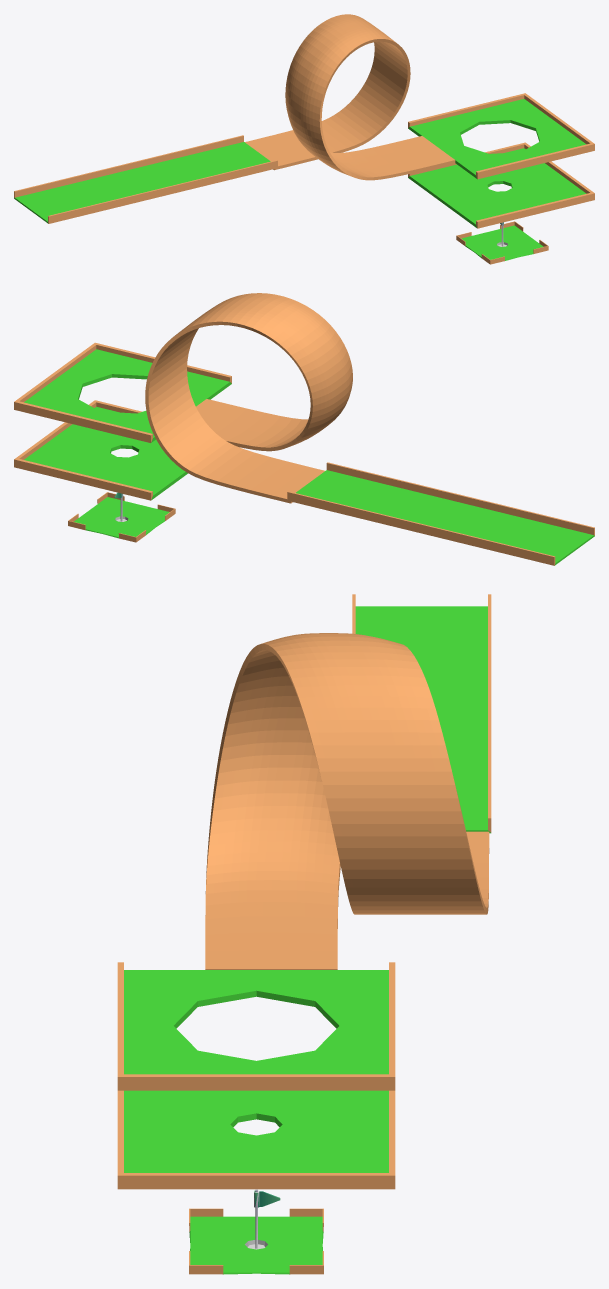
Rendered from m-golf-holes-003.glb.
3 views of the same model, one above another, from view 1: azimuth 30°, elevation 25°; view 2: azimuth 150°, elevation 25°; view 3: azimuth 270°, elevation 25° (orthographic). The views are drawn at different scales.
Visible parts, largest first — view 1: 3_Loop_1_Visual, 3_Track1_Visual, 3_Flat_Section_2_Visual, 3_Flat_Section_1_Visual, 3_Hole_End_Visual; view 2: 3_Loop_1_Visual, 3_Track1_Visual, 3_Flat_Section_2_Visual, 3_Flat_Section_1_Visual, 3_Hole_End_Visual; view 3: 3_Loop_1_Visual, 3_Flat_Section_2_Visual, 3_Flat_Section_1_Visual, 3_Track1_Visual, 3_Hole_End_Visual.
Part boxes in pixels (x1,y1,x2,y2): 3_Loop_1_Visual: (245, 14, 455, 180); 3_Track1_Visual: (14, 135, 277, 223); 3_Flat_Section_2_Visual: (408, 142, 594, 228); 3_Flat_Section_1_Visual: (408, 93, 594, 179); 3_Hole_End_Visual: (456, 221, 548, 264); 3_Loop_1_Visual: (145, 293, 352, 503); 3_Track1_Visual: (287, 462, 594, 565); 3_Flat_Section_2_Visual: (14, 400, 187, 500); 3_Flat_Section_1_Visual: (14, 342, 231, 442); 3_Hole_End_Visual: (68, 492, 175, 542); 3_Loop_1_Visual: (205, 633, 489, 969); 3_Flat_Section_2_Visual: (117, 1090, 395, 1189); 3_Flat_Section_1_Visual: (117, 962, 395, 1090); 3_Track1_Visual: (352, 594, 491, 833); 3_Hole_End_Visual: (189, 1208, 323, 1274).
Size of what is drawn, in the model's own units: 17.01 by 7.9 by 5.65.
Materials: 6 (1 with a texture image).
